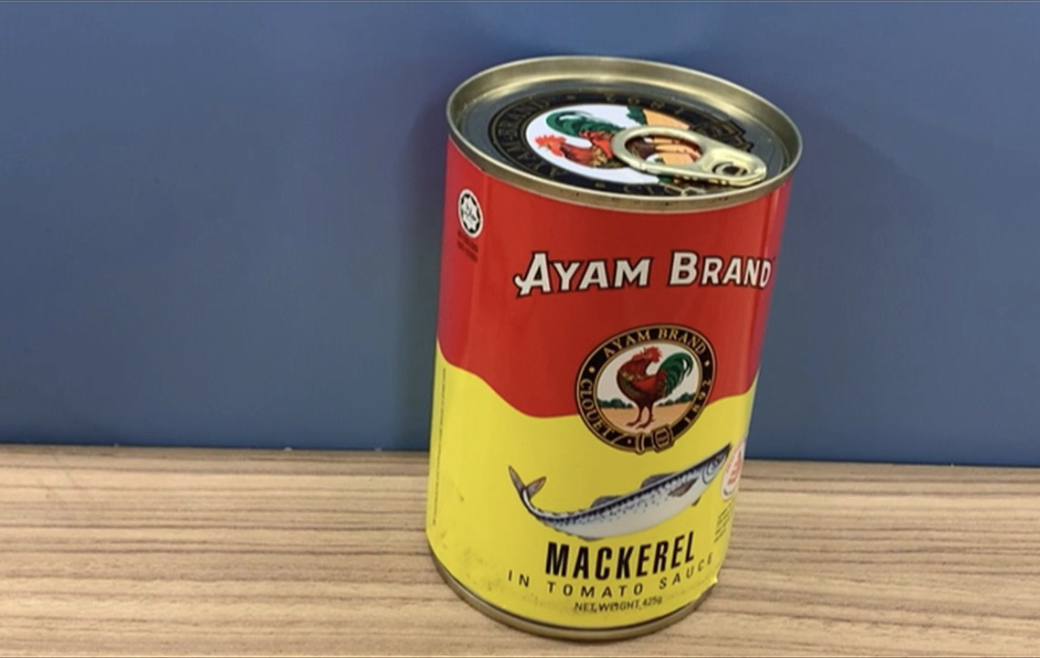sardines_400g-499g: (450, 122, 735, 602)
